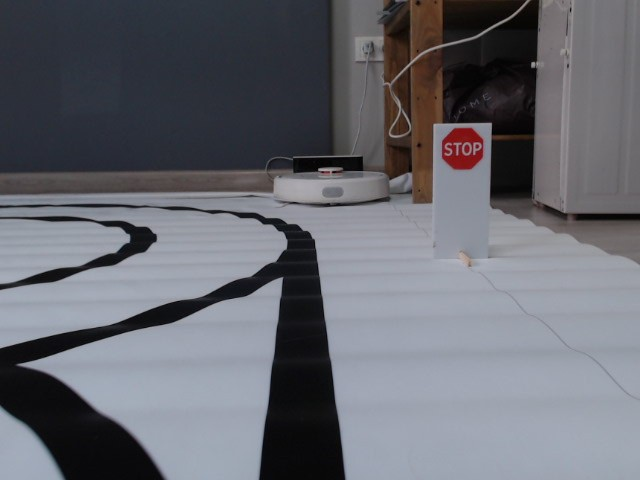Stop: (439, 128, 486, 170)
